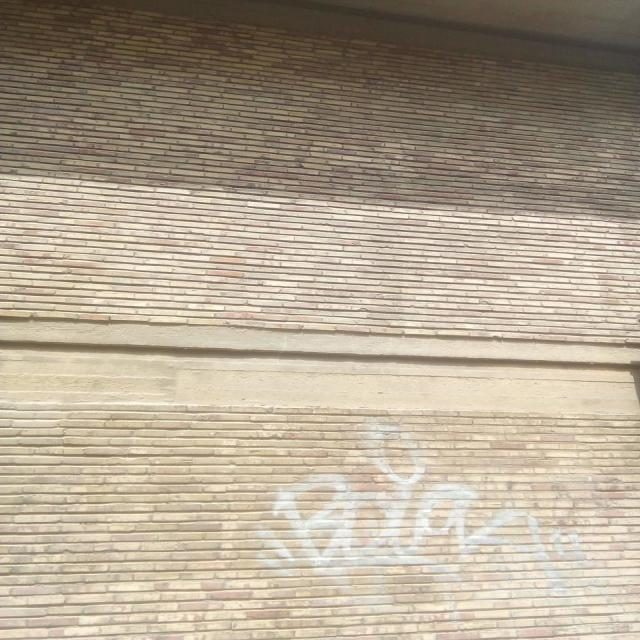nonspitting: (258, 419, 581, 576)
